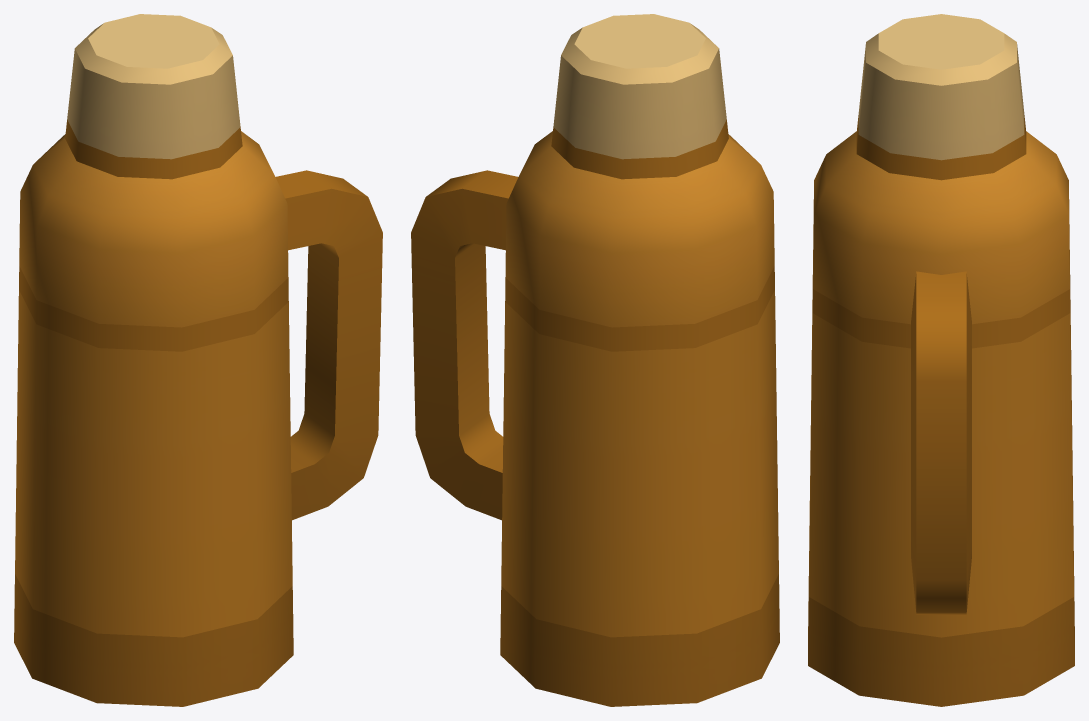
The model's file is SM_Thermos.fbx.
The picture shows the model from 3 angles, left to right: view 1: azimuth 30°, elevation 25°; view 2: azimuth 150°, elevation 25°; view 3: azimuth 270°, elevation 25°; orthographic projection.
Parts seen in each view (by area): view 1: SM_Thermos; view 2: SM_Thermos; view 3: SM_Thermos.
Boxes of the visible parts, x1=… form: SM_Thermos: x1=14, y1=14, x2=382, y2=706; SM_Thermos: x1=411, y1=14, x2=779, y2=706; SM_Thermos: x1=808, y1=14, x2=1074, y2=706.
Bounding box in the file's own units: 22.67 × 38.9 × 15.52.
